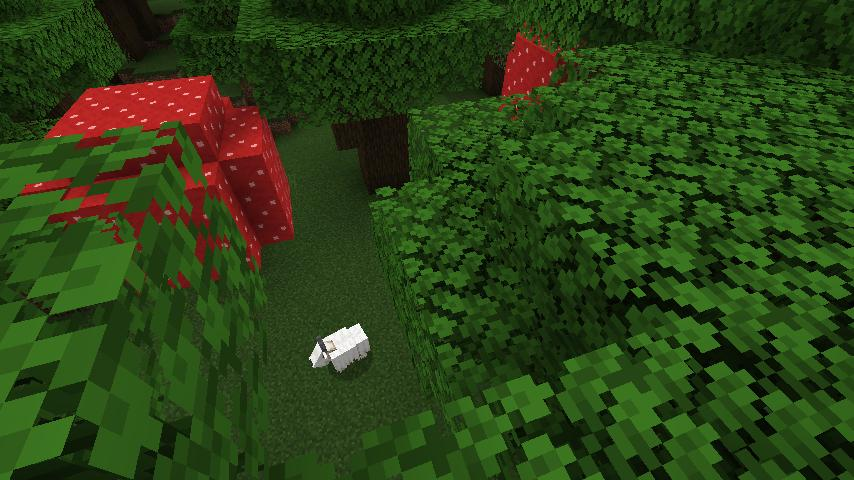goat: (306, 317, 375, 377)
